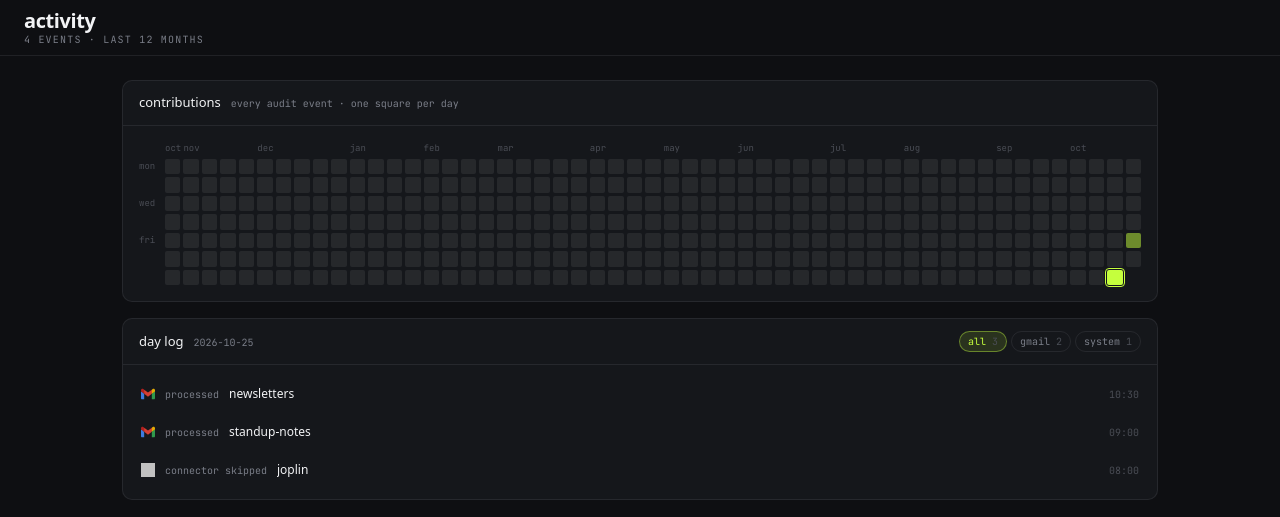
Scenario: ActivityScreen › source chips filter the visible rows client-side
Expected: the text "newsletters" is shown, top-left (229, 385), bottom-right (294, 402)
What coordinates should you click on to do the following:
click the button "gmail 2"
I would click on:
 (1041, 342)
Its box is top-left (1011, 331), bottom-right (1071, 352).
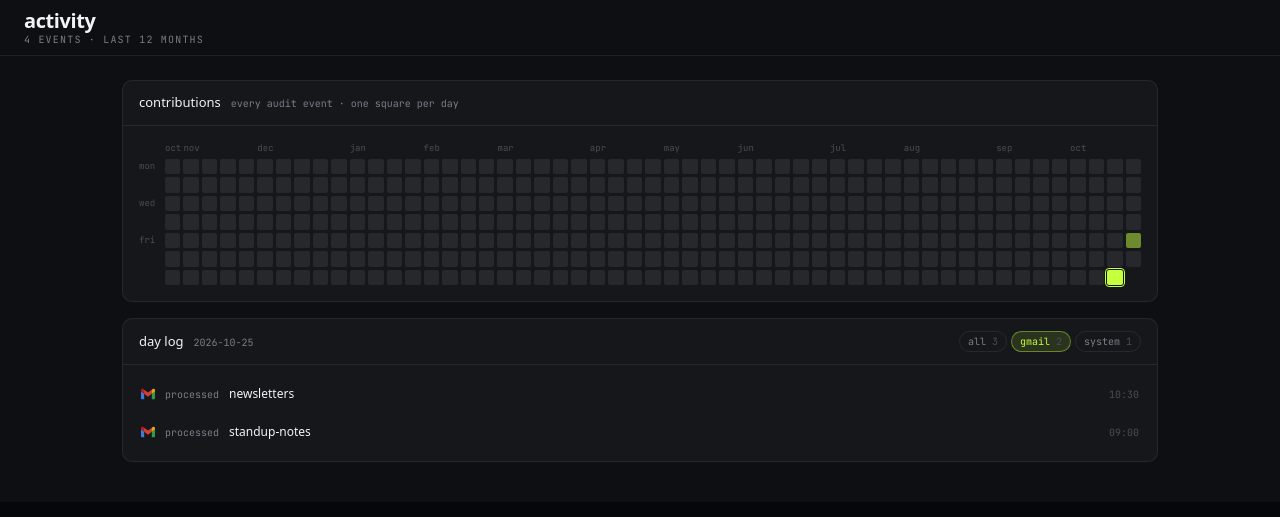
Expected: the text "newsletters" is shown, top-left (229, 385), bottom-right (294, 402)
Now the text "joplin" is gone
